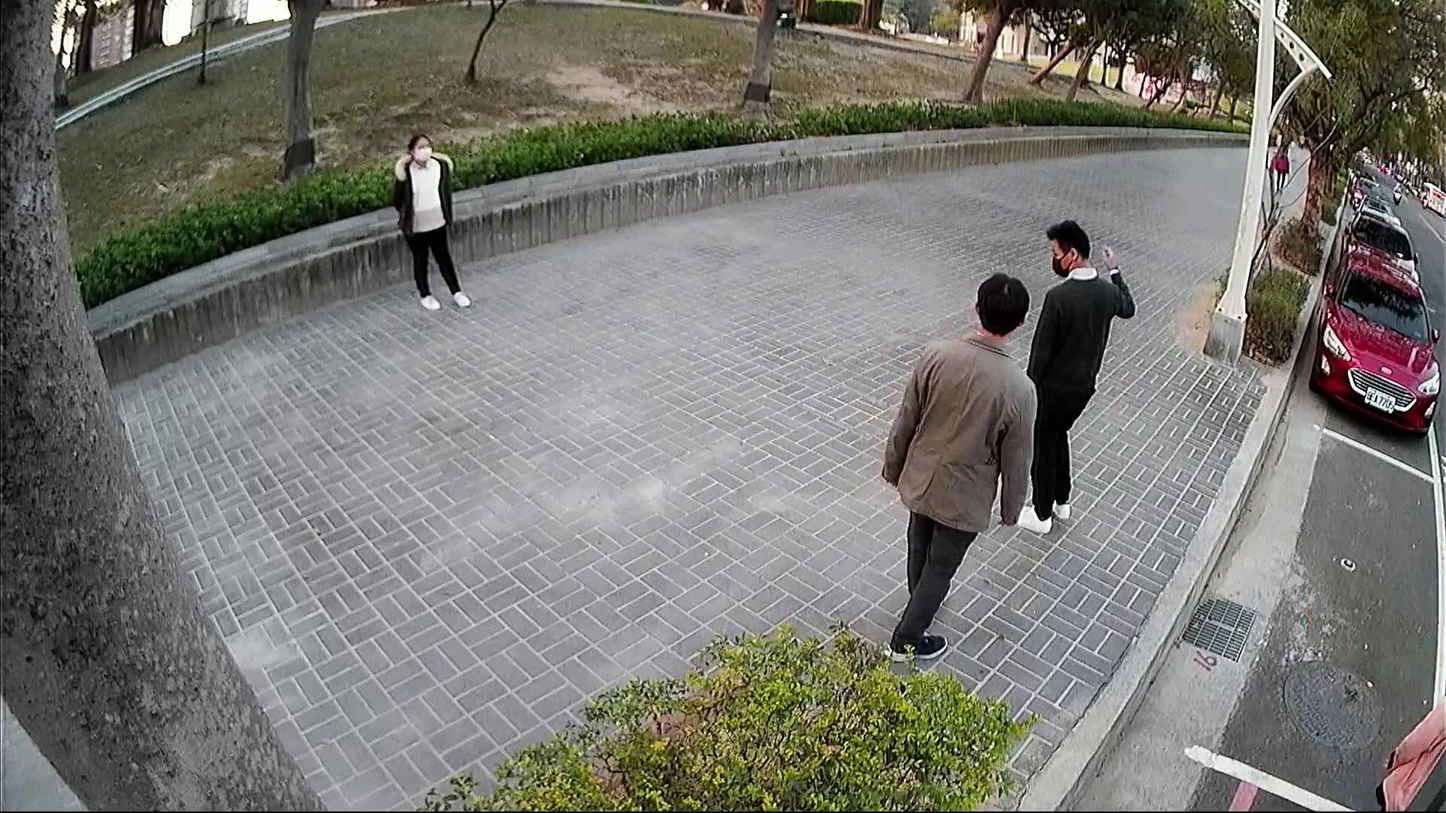person: (873, 266, 1039, 664), (1006, 210, 1137, 535), (386, 131, 468, 307)
